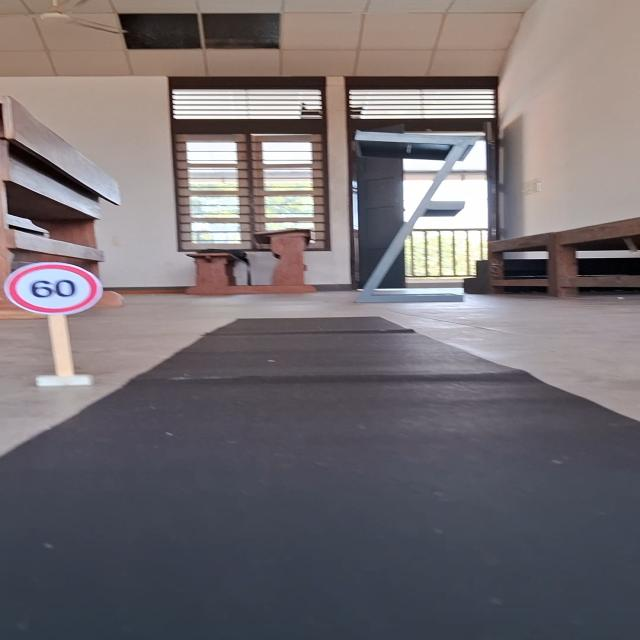Speed60: (0, 260, 107, 316)
